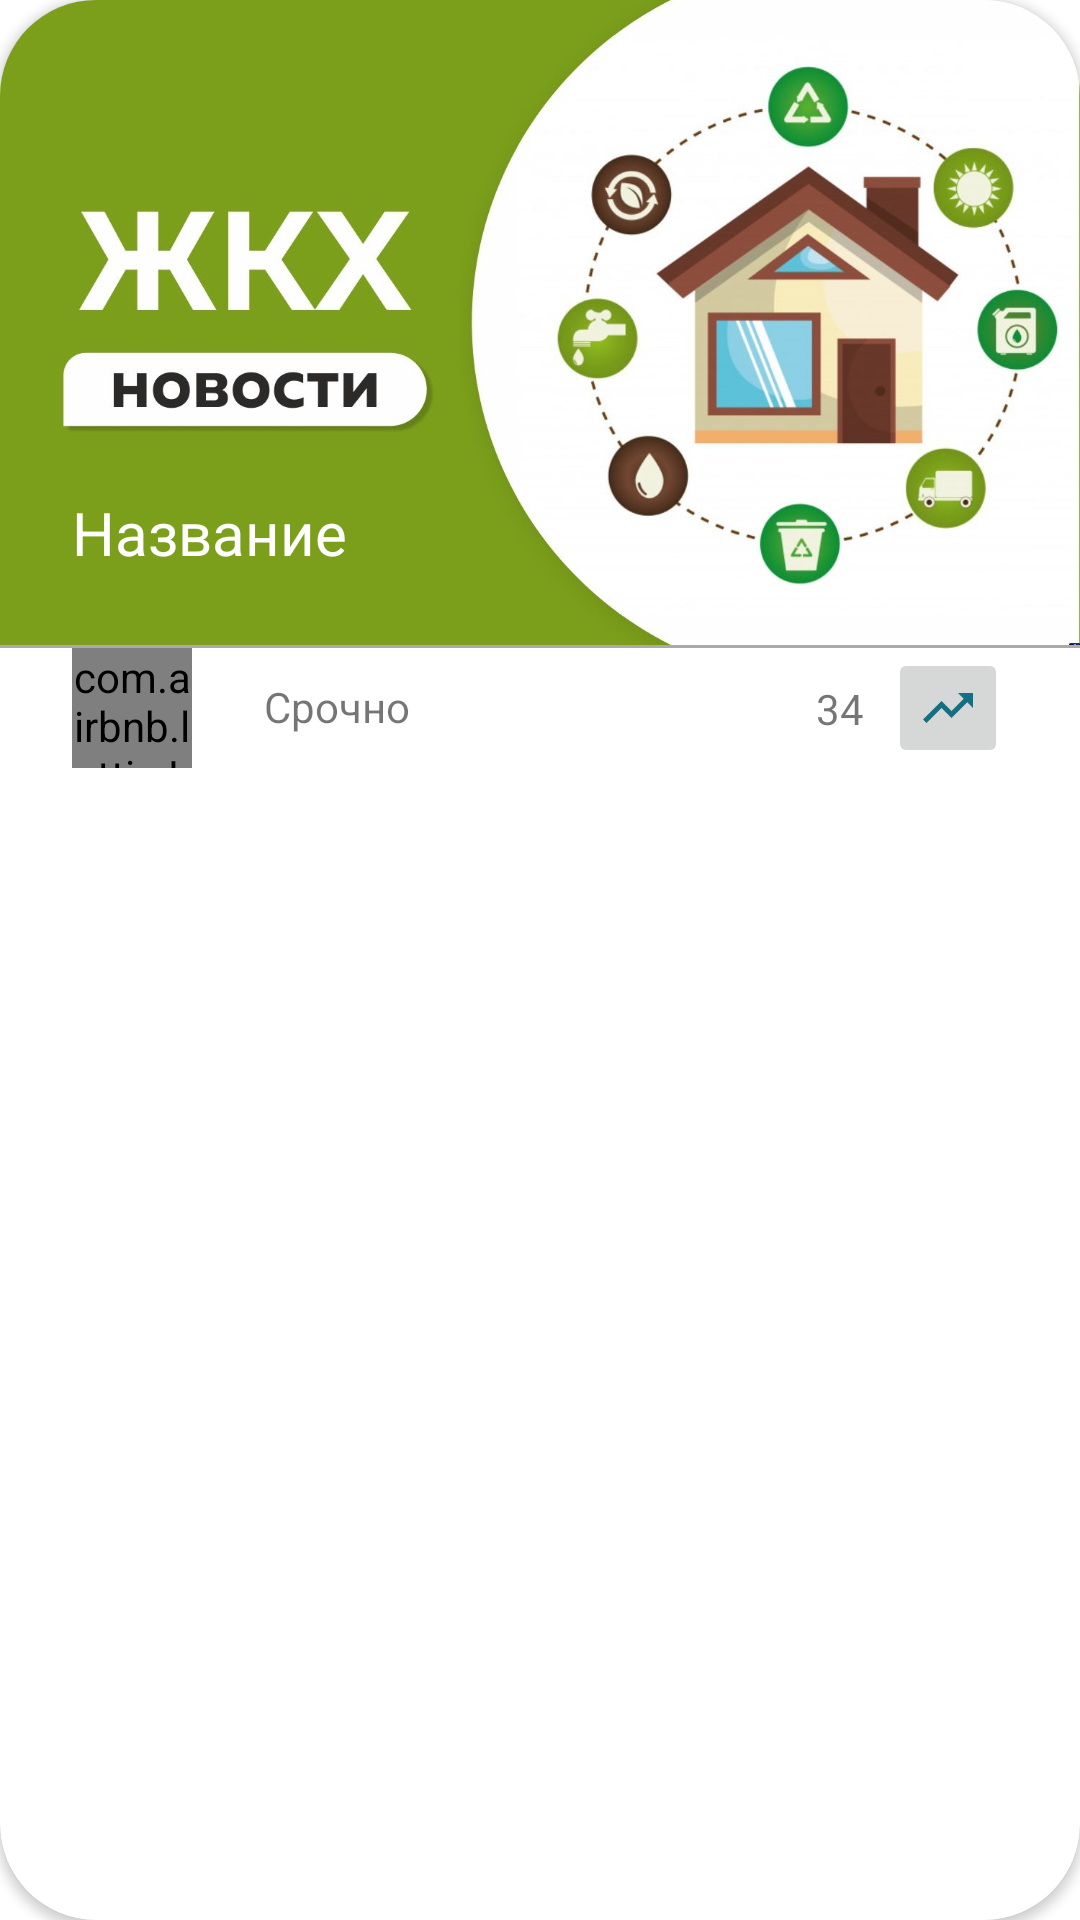

Locate icon controls on the screen. Image size 1080px×1920px, boxes as BBox(x1, y1, x2, y2).
trending up: BBox(900, 666, 996, 750)
